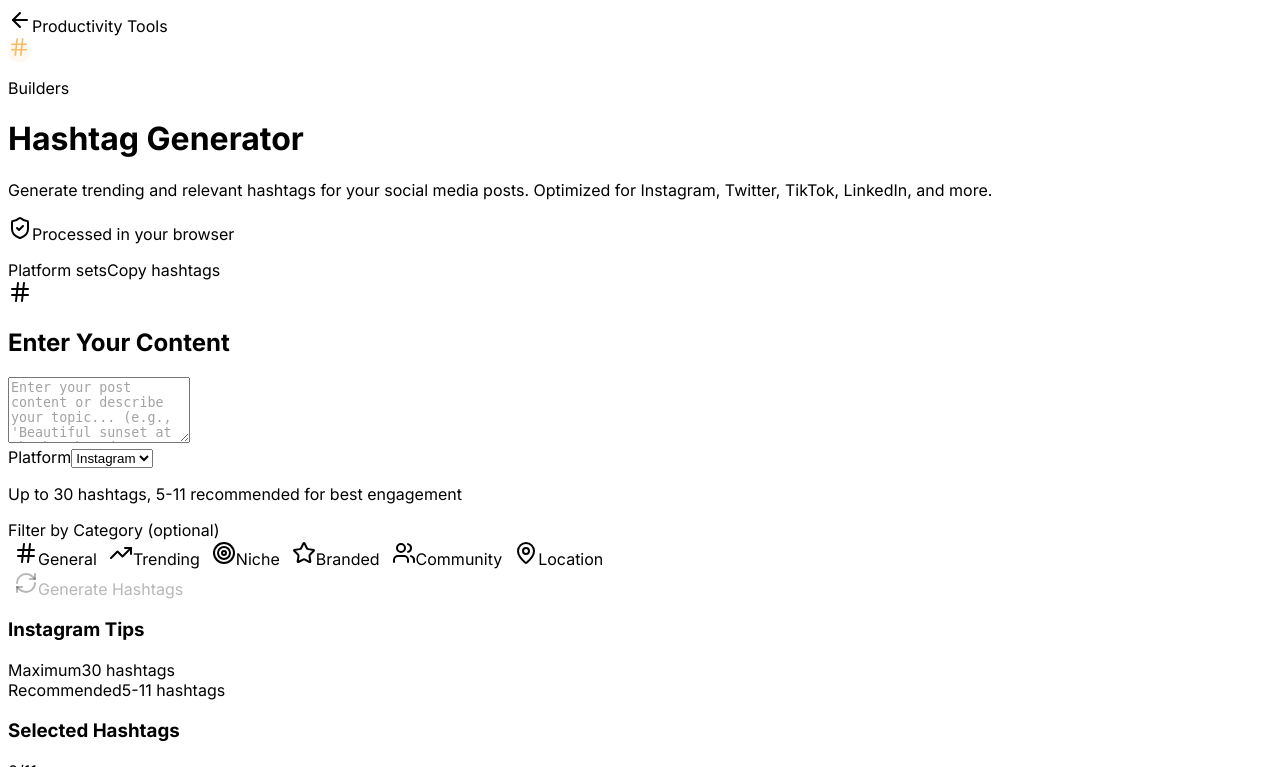
it: HashtagGeneratorPage › Hashtag Generation › shows Select Recommended and Deselect All buttons after generation
Type "travel adventure photography" into the text box with placeholder "Enter your post content or describe your topic" at (99, 410), box [8,377,190,443]
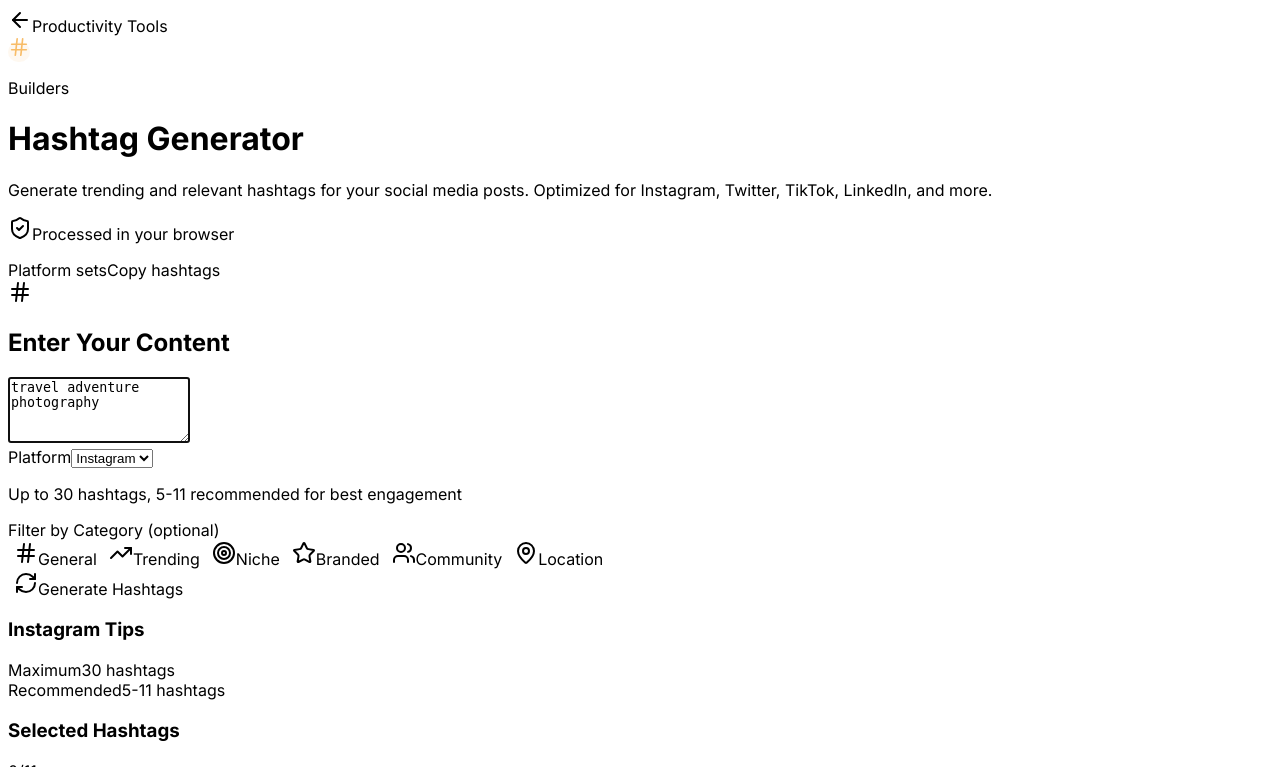
Click the button "Generate Hashtags" at (99, 585), box [8,570,189,600]
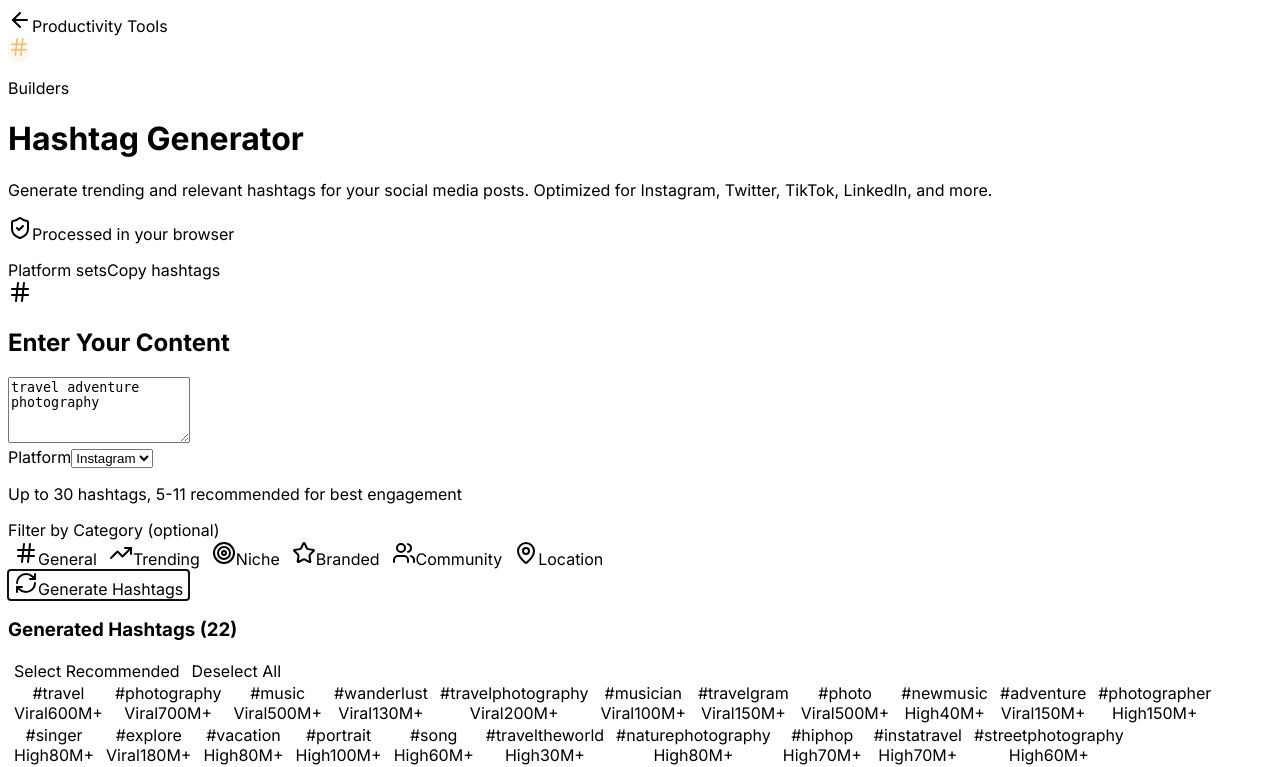
Check: the button "Select Recommended" is shown, box [8,660,186,682]
Check: the button "Deselect All" is shown, box [186,660,287,682]
